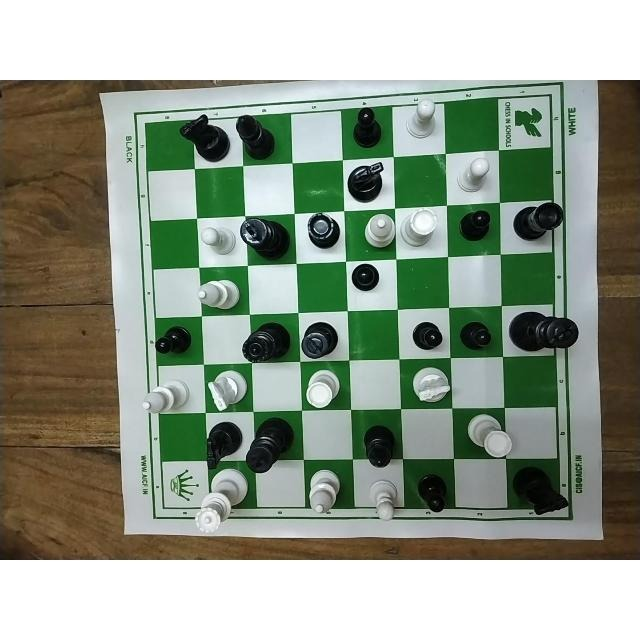black-bishop: (236, 113, 276, 161), (361, 422, 395, 470)
black-king: (245, 417, 293, 475), (508, 312, 577, 352), (239, 217, 291, 261), (302, 320, 338, 359)
black-knight: (514, 465, 568, 515), (178, 114, 230, 162), (203, 420, 242, 468), (346, 162, 385, 202)
black-pawn: (414, 471, 450, 512), (351, 107, 384, 149), (409, 320, 447, 351), (153, 325, 192, 355), (458, 208, 492, 242), (458, 318, 492, 351), (348, 262, 379, 291)
black-queen: (241, 321, 290, 364)
black-rook: (512, 201, 564, 243), (304, 212, 340, 250)
white-bishop: (140, 378, 190, 414), (193, 277, 241, 311), (308, 466, 342, 514), (362, 213, 396, 249)
white-knight: (410, 365, 452, 405), (207, 369, 247, 410)
white-pawn: (403, 97, 438, 139), (367, 477, 401, 519), (456, 157, 489, 193), (199, 223, 237, 252)
white-queen: (196, 468, 247, 533)
white-rook: (464, 412, 512, 459), (399, 207, 437, 246), (304, 369, 340, 408)
